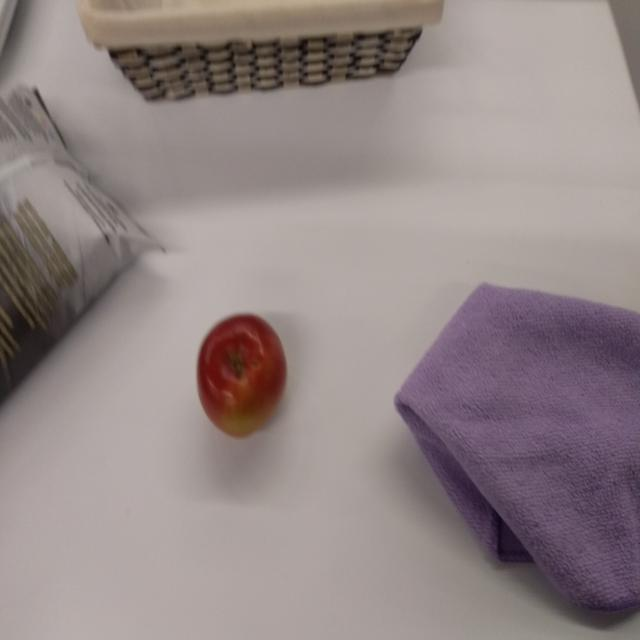apple: (195, 310, 289, 441)
